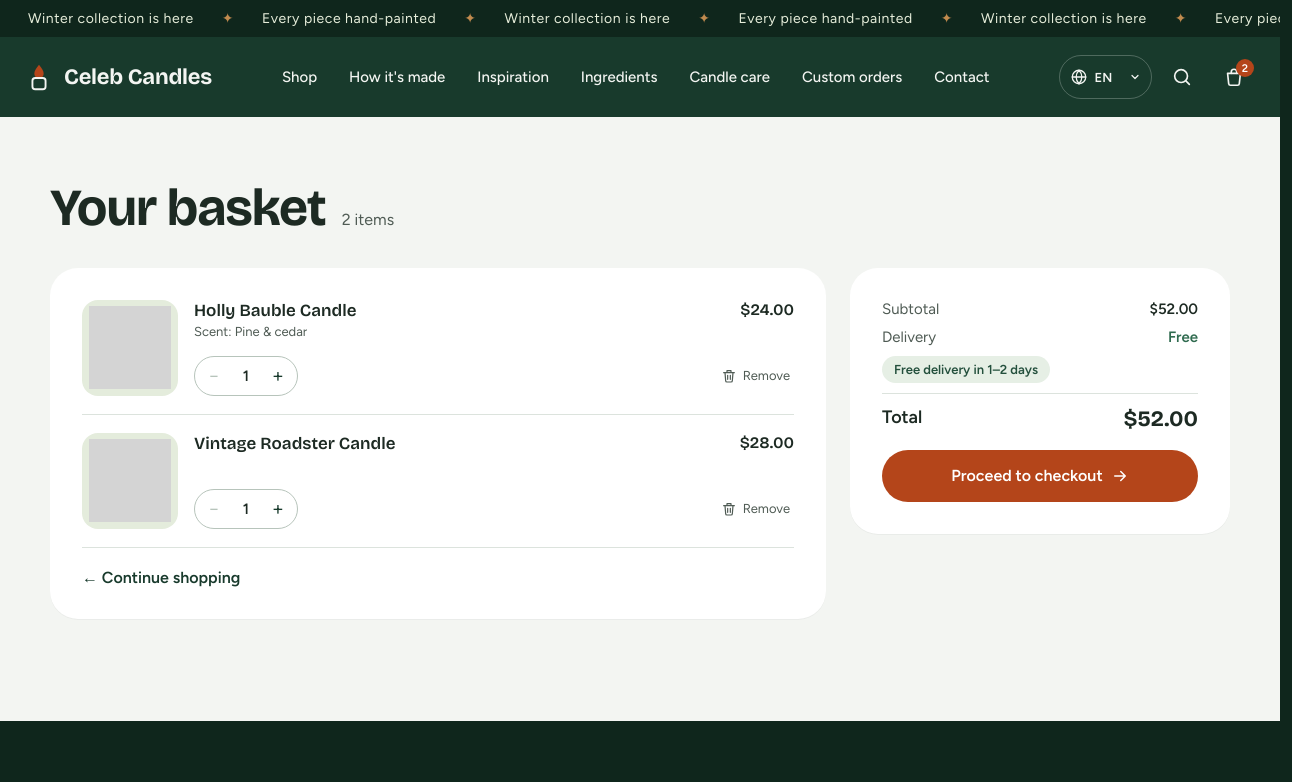
Scenario: Basket › changes quantities, removes lines and shows the totals on the basket page
Check: the heading "Your basket" is shown, box [50,181,326,236]
Check: the link "Vintage Roadster Candle" is shown, box [194,433,396,454]
Click the button named "Increase quantity" at (278, 376), box [259,357,297,395]
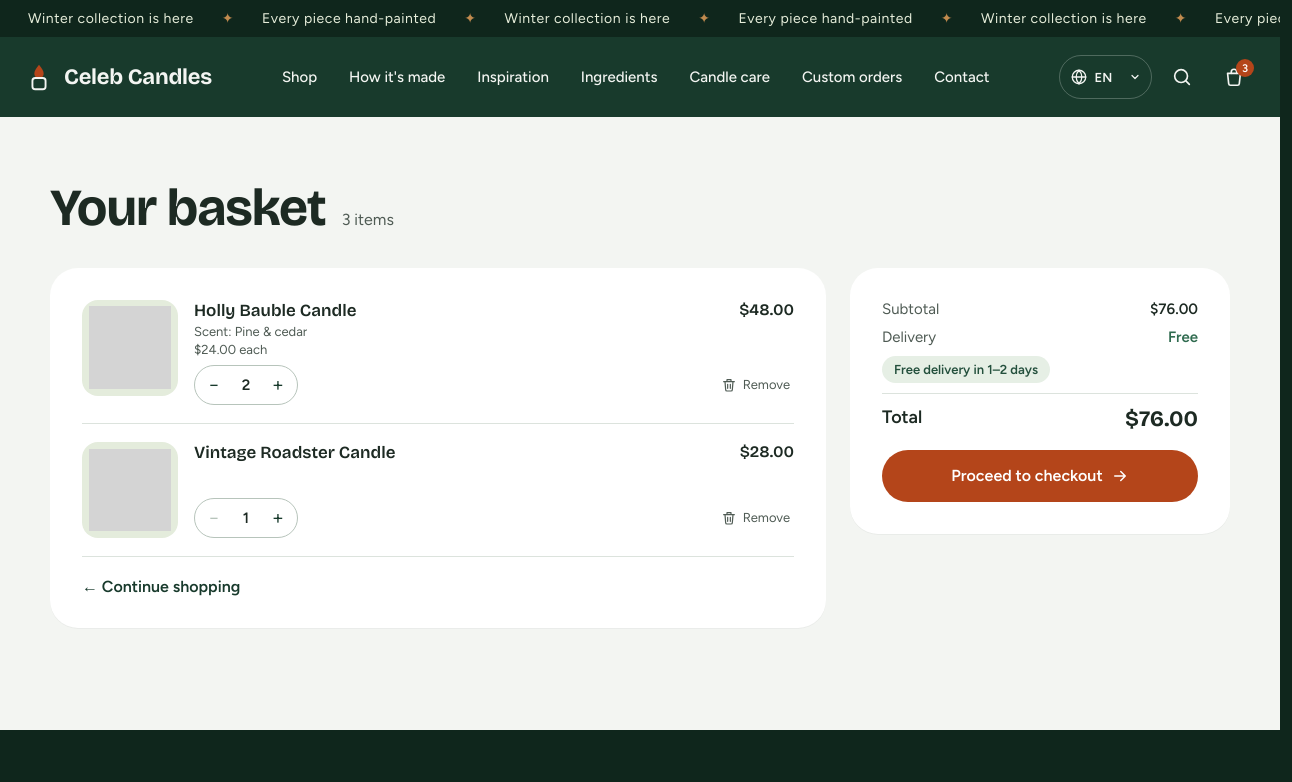
Check: the text "$76.00" is shown 2 times, box [1150,300,1198,318]; [1125,406,1198,432]
Check: the text "2" is shown, box [242,376,250,394]
Click the button with aria-label "Remove Vintage Roadster Candle from the basket" at (755, 518), box [717,504,794,532]
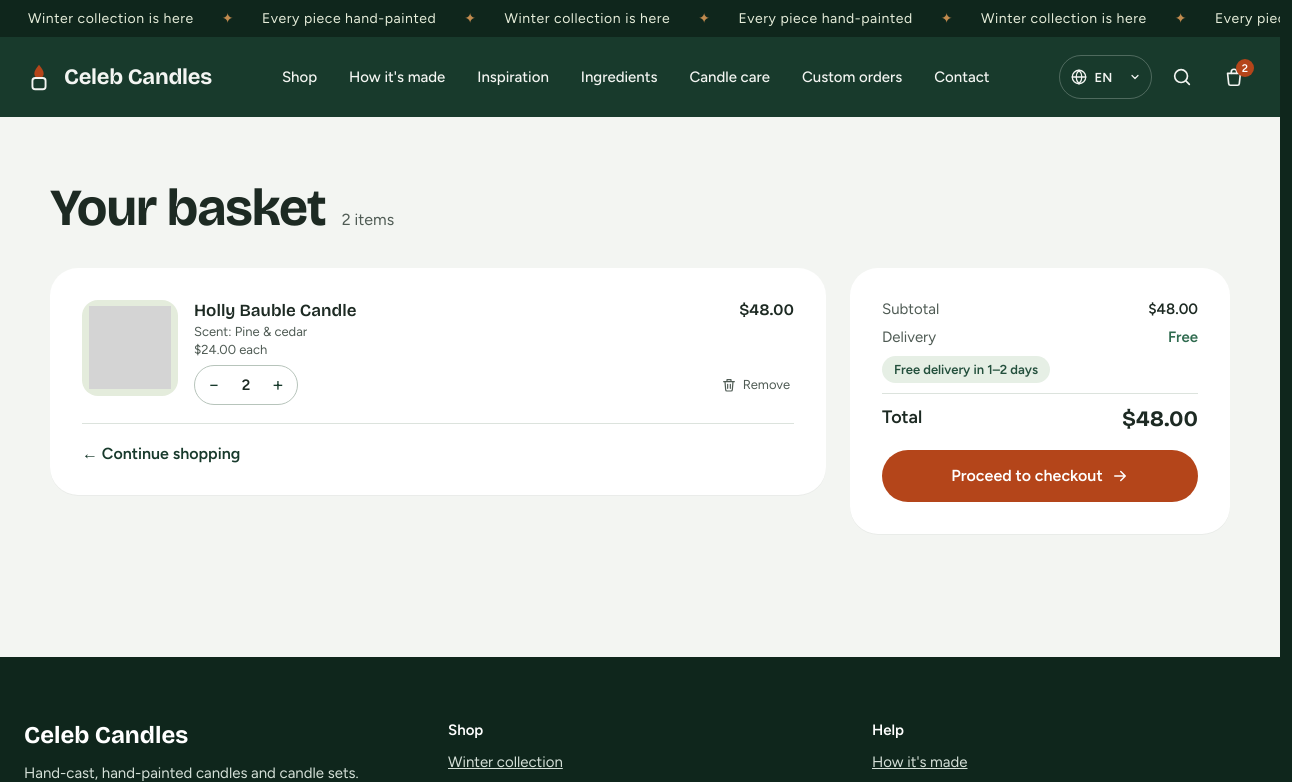
Check: the text "$48.00" in the row of "Holly Bauble Candle" is shown, box [739,300,794,319]
Check: the link "Vintage Roadster Candle" is gone
